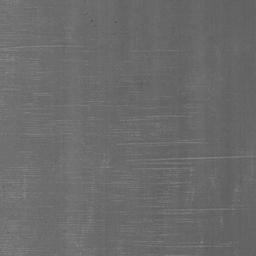Waist folding: (0, 138, 256, 199), (0, 42, 121, 137), (64, 232, 237, 256), (89, 204, 235, 224), (120, 111, 213, 124), (0, 219, 27, 235), (133, 48, 176, 53), (90, 18, 118, 25)
